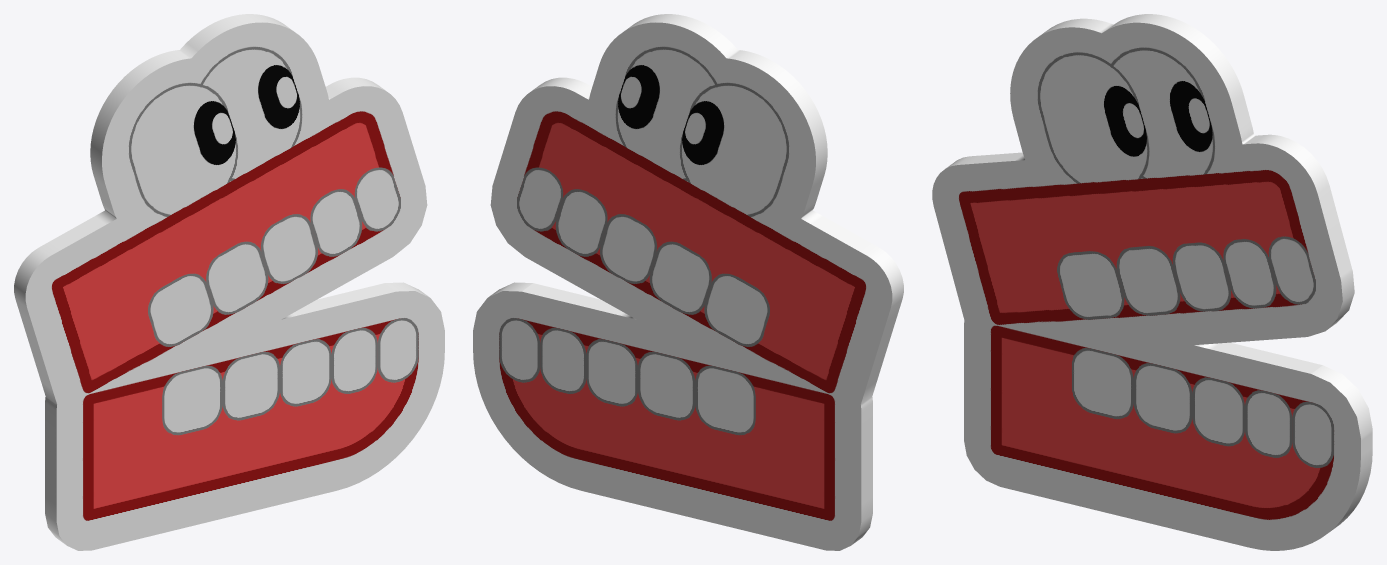
The model's file is teeth_open.glb.
3 views of the same model, side by side, from view 1: azimuth 30°, elevation 25°; view 2: azimuth 150°, elevation 25°; view 3: azimuth 330°, elevation 25° (orthographic). The views are drawn at different scales.
Parts seen in each view (by area): view 1: Curve.020; view 2: Curve.020; view 3: Curve.020.
Part boxes in pixels (left/top/right/bottom): Curve.020: left=14, top=14, right=444, bottom=550; Curve.020: left=473, top=14, right=903, bottom=550; Curve.020: left=932, top=14, right=1372, bottom=550.
Size of the model in its own units: 0.2859 by 0.3185 by 0.0137.
Materials: 1 (1 with a texture image).
